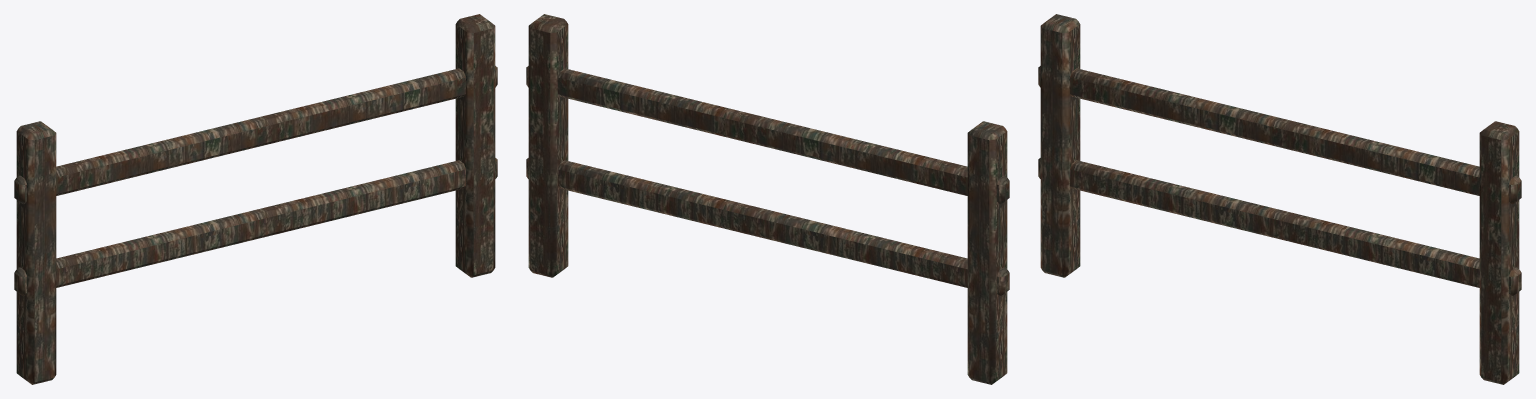
Rendered from prop_fence.glb.
The picture shows the model from 3 angles, left to right: view 1: azimuth 30°, elevation 25°; view 2: azimuth 150°, elevation 25°; view 3: azimuth 330°, elevation 25°; orthographic projection.
Visible parts, largest first — view 1: PROP_WoodFence; view 2: PROP_WoodFence; view 3: PROP_WoodFence.
Boxes of the visible parts, <box> form: PROP_WoodFence: <box>14,14,497,384</box>; PROP_WoodFence: <box>526,14,1009,384</box>; PROP_WoodFence: <box>1038,14,1521,384</box>.
Size of the model in its own units: 2.4 by 1.2 by 0.14.
1 material, 1 textured.
